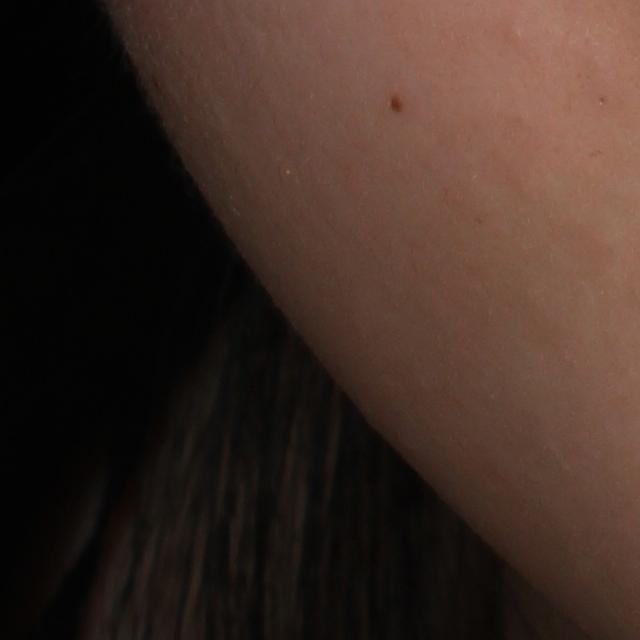comedo: (498, 25, 529, 46)
nevus: (388, 91, 407, 114)
